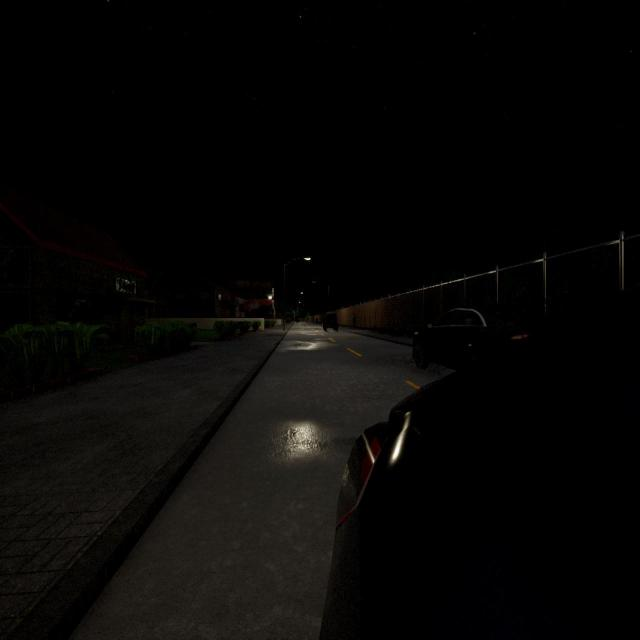Pedestrian: (351, 312, 357, 329)
Vehicle: (320, 295, 640, 640), (413, 307, 506, 375), (322, 312, 338, 330)
